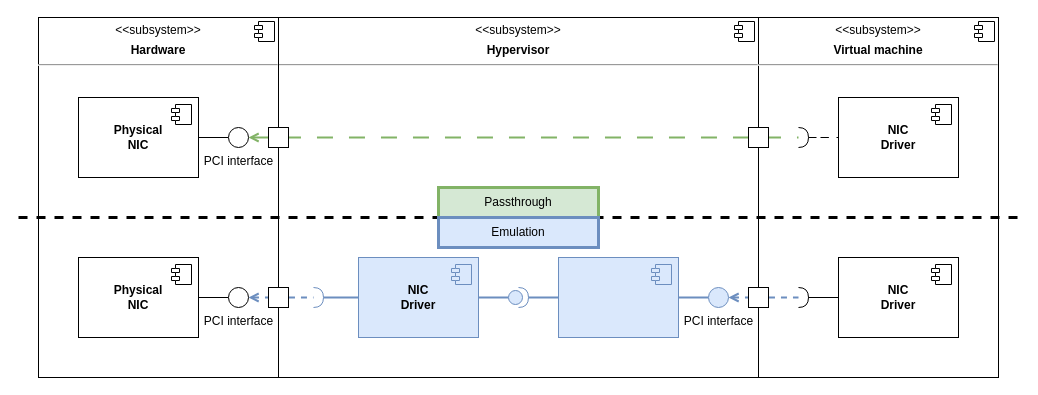
This 1038x395 diagram has some shape labels left out. Each missing label, with the centre of its shape:
"Emulated NIC" belongs at point 618,297.
"Network Access" belongs at point 518,297.
